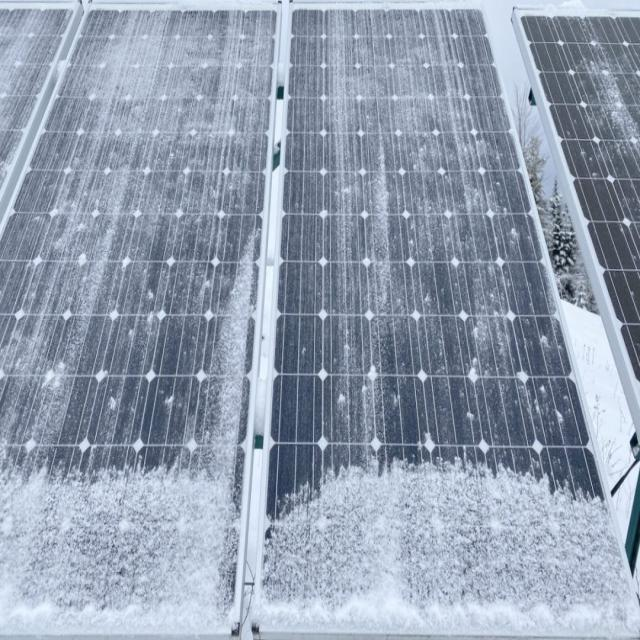snow covered: (1, 9, 635, 633)
